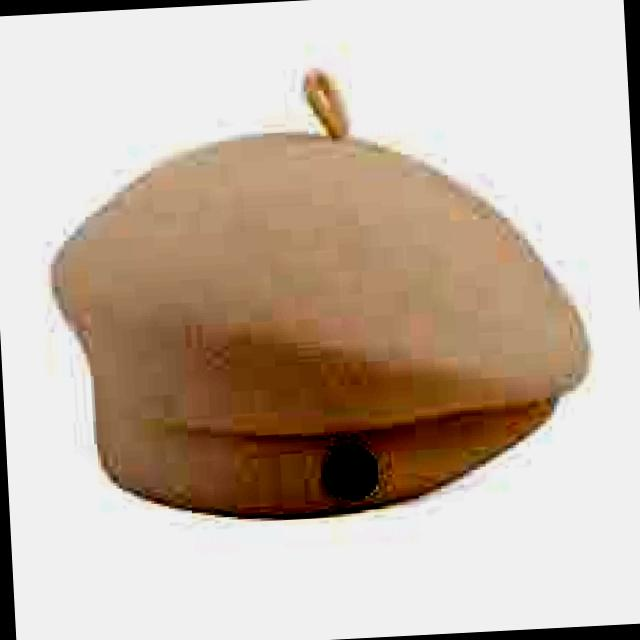hat: (54, 74, 587, 517)
